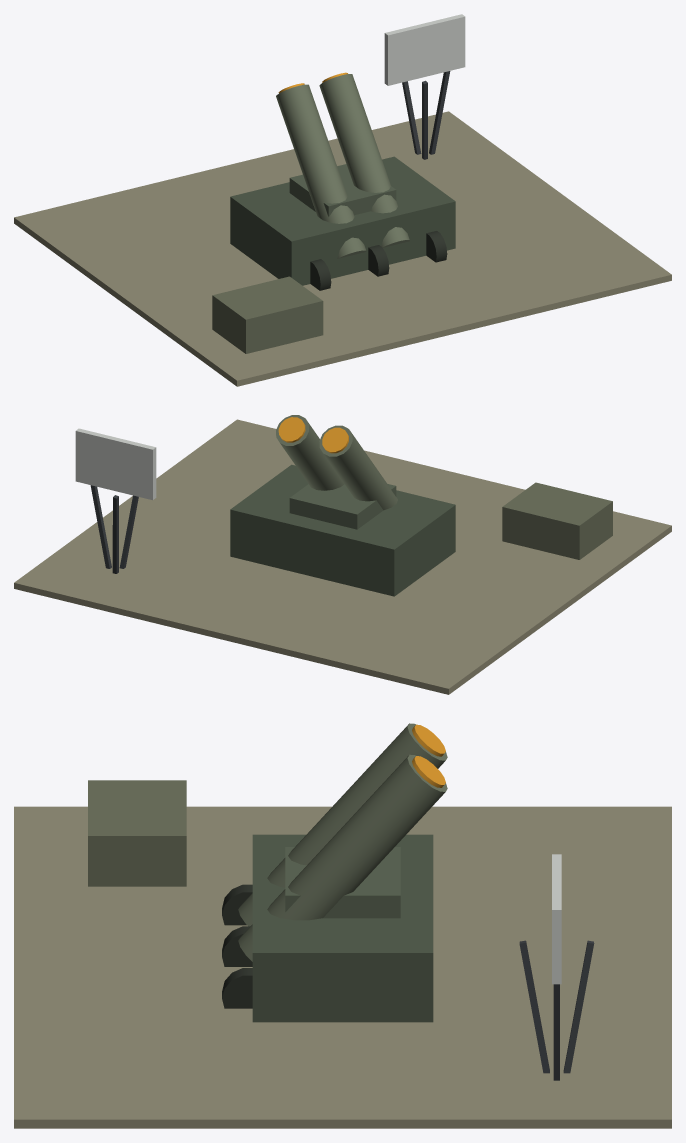
Rendered from sam_site.glb.
The picture shows the model from 3 angles, top to bottom: view 1: azimuth 30°, elevation 25°; view 2: azimuth 150°, elevation 25°; view 3: azimuth 270°, elevation 25°; orthographic projection. The views are drawn at different scales.
Parts seen in each view (by area): view 1: _MeshInstance3D_2, _MeshInstance3D_3, _MeshInstance3D_18, _MeshInstance3D_9, _MeshInstance3D_11, RadarPanel, _MeshInstance3D_7, _MeshInstance3D_14, _MeshInstance3D_4, _MeshInstance3D_6, _MeshInstance3D_5; view 2: _MeshInstance3D_2, _MeshInstance3D_3, _MeshInstance3D_18, RadarPanel, _MeshInstance3D_7, _MeshInstance3D_9, _MeshInstance3D_11, _MeshInstance3D_14, _MeshInstance3D_12, _MeshInstance3D_10, _MeshInstance3D_16, _MeshInstance3D_15; view 3: _MeshInstance3D_2, _MeshInstance3D_3, _MeshInstance3D_18, _MeshInstance3D_11, _MeshInstance3D_9, _MeshInstance3D_7, RadarPanel, _MeshInstance3D_6, _MeshInstance3D_15, _MeshInstance3D_16, _MeshInstance3D_4, _MeshInstance3D_5 (+3 smaller).
Boxes of the visible parts, left/top/right/bottom form: _MeshInstance3D_2: left=14, top=111, right=671, bottom=386; _MeshInstance3D_3: left=230, top=156, right=455, bottom=285; _MeshInstance3D_18: left=212, top=276, right=323, bottom=353; _MeshInstance3D_9: left=276, top=84, right=366, bottom=258; _MeshInstance3D_11: left=319, top=74, right=409, bottom=247; RadarPanel: left=384, top=14, right=465, bottom=85; _MeshInstance3D_7: left=289, top=164, right=396, bottom=217; _MeshInstance3D_14: left=429, top=71, right=450, bottom=154; _MeshInstance3D_4: left=310, top=259, right=331, bottom=290; _MeshInstance3D_6: left=426, top=231, right=447, bottom=262; _MeshInstance3D_5: left=368, top=245, right=389, bottom=276; _MeshInstance3D_2: left=14, top=419, right=671, bottom=694; _MeshInstance3D_3: left=230, top=464, right=455, bottom=596; _MeshInstance3D_18: left=502, top=482, right=612, bottom=559; RadarPanel: left=75, top=428, right=156, bottom=500; _MeshInstance3D_7: left=289, top=484, right=396, bottom=529; _MeshInstance3D_9: left=319, top=425, right=397, bottom=510; _MeshInstance3D_11: left=276, top=415, right=344, bottom=490; _MeshInstance3D_14: left=90, top=485, right=111, bottom=568; _MeshInstance3D_12: left=278, top=417, right=305, bottom=442; _MeshInstance3D_10: left=322, top=427, right=348, bottom=453; _MeshInstance3D_16: left=112, top=495, right=118, bottom=573; _MeshInstance3D_15: left=119, top=495, right=138, bottom=568; _MeshInstance3D_2: left=14, top=806, right=671, bottom=1128; _MeshInstance3D_3: left=252, top=834, right=433, bottom=1022; _MeshInstance3D_18: left=88, top=780, right=186, bottom=886; _MeshInstance3D_11: left=238, top=754, right=447, bottom=961; _MeshInstance3D_9: left=238, top=723, right=447, bottom=926; _MeshInstance3D_7: left=285, top=847, right=400, bottom=918; RadarPanel: left=552, top=854, right=561, bottom=984; _MeshInstance3D_6: left=222, top=968, right=252, bottom=1008; _MeshInstance3D_15: left=519, top=940, right=549, bottom=1073; _MeshInstance3D_16: left=563, top=940, right=594, bottom=1073; _MeshInstance3D_4: left=222, top=884, right=252, bottom=925; _MeshInstance3D_5: left=222, top=926, right=252, bottom=966.
Size of the model in its own units: 9 by 3.14 by 8.
